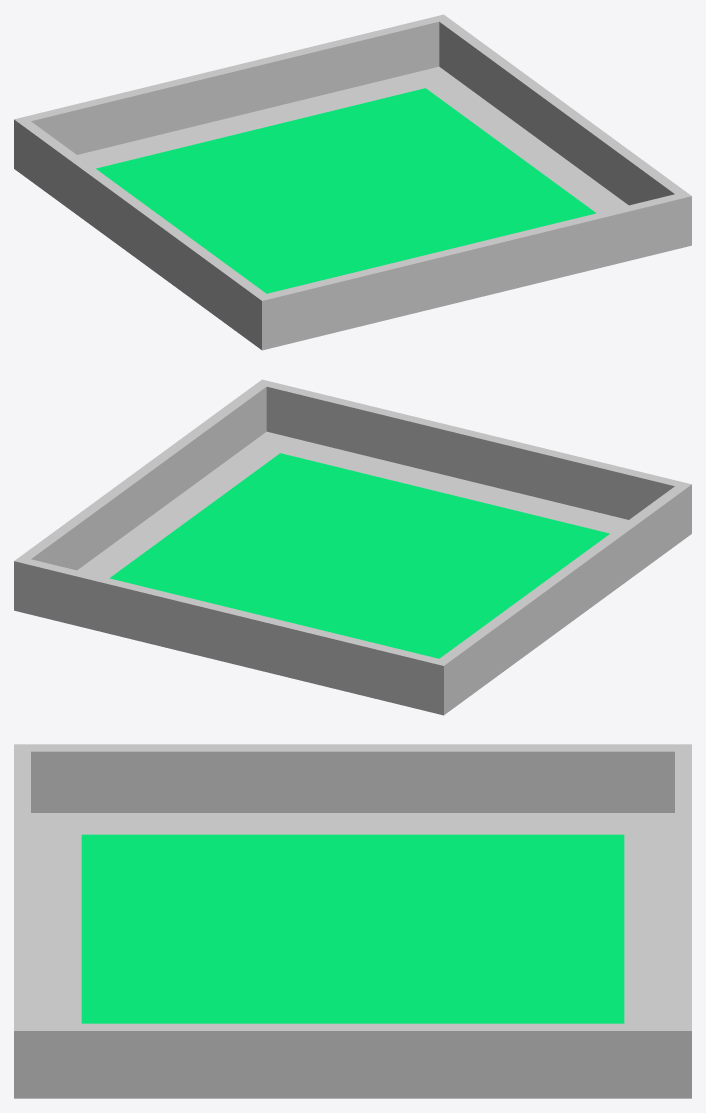
3 renders of one model, top to bottom at view 1: azimuth 30°, elevation 25°; view 2: azimuth 150°, elevation 25°; view 3: azimuth 270°, elevation 25°, orthographic. The views are drawn at different scales.
Parts seen in each view (by area): view 1: G-__584562; view 2: G-__584562; view 3: G-__584562.
Part boxes in pixels (bbox=[...]): G-__584562: bbox=[14, 14, 691, 350]; G-__584562: bbox=[14, 379, 691, 715]; G-__584562: bbox=[14, 744, 691, 1098].
Size of the model in its own units: 20 by 2.2 by 20.
